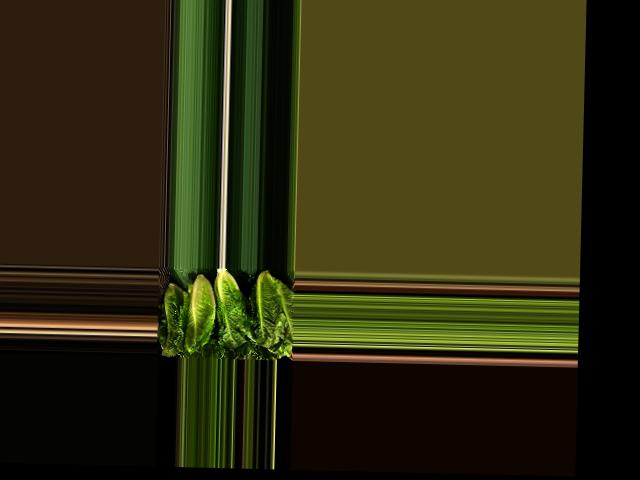lettuce: (162, 285, 186, 357)
